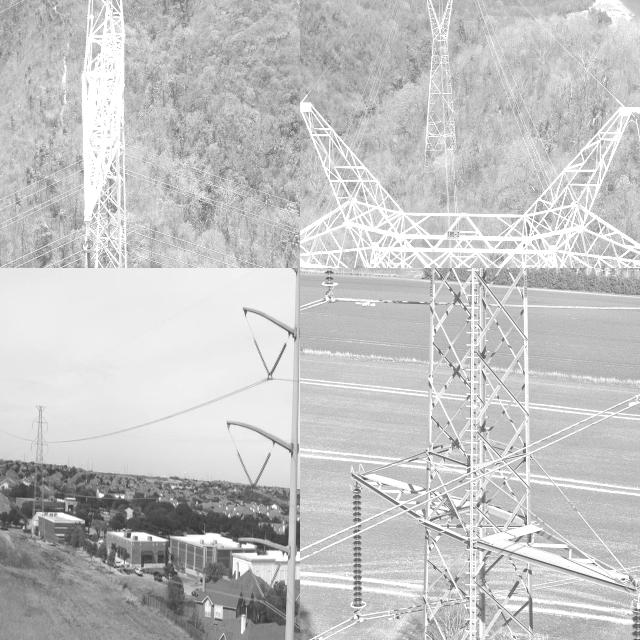杆塔: (312, 268, 640, 640), (300, 101, 640, 268), (62, 0, 158, 268), (400, 0, 482, 182), (28, 394, 50, 514)
正常绝缘子: (343, 475, 374, 631), (249, 449, 273, 495), (251, 336, 273, 381), (235, 450, 256, 495), (266, 340, 288, 382), (261, 563, 282, 606), (246, 561, 267, 603), (321, 268, 343, 308)
